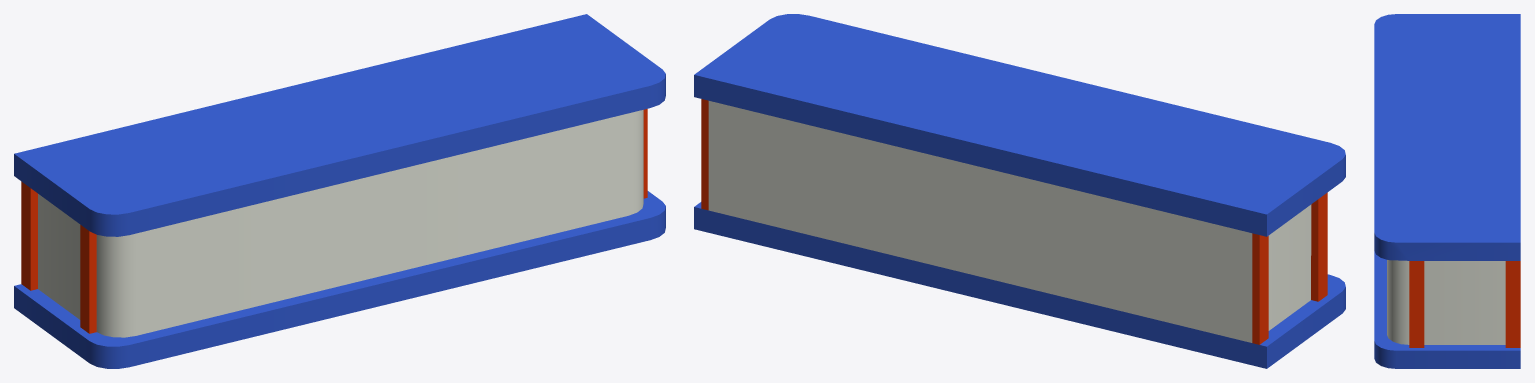
The model's file is TableB5-3_geo.fbx.
The picture shows the model from 3 angles, left to right: view 1: azimuth 30°, elevation 25°; view 2: azimuth 150°, elevation 25°; view 3: azimuth 270°, elevation 25°; orthographic projection. The views are drawn at different scales.
Parts seen in each view (by area): view 1: TableB4-3_geo; view 2: TableB4-3_geo; view 3: TableB4-3_geo.
Part boxes in pixels (x1,y1,x2,y2): TableB4-3_geo: (14, 14, 665, 368); TableB4-3_geo: (694, 14, 1345, 368); TableB4-3_geo: (1374, 14, 1520, 368).
Size of the model in its own units: 2.64 by 0.7143 by 0.6803.
